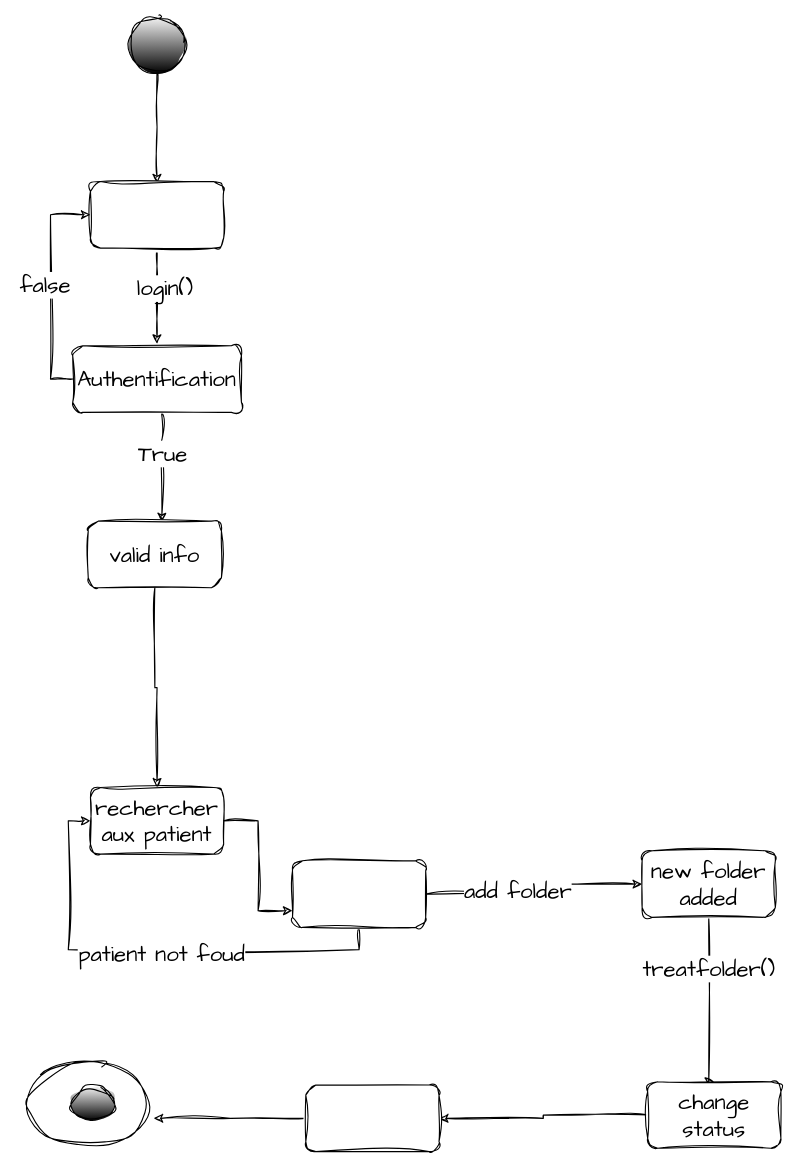
Some shapes in this 800 by 1171 pixel diagram are drawn without their labels. Here are the shapes that lost their labels. From the top down, the centre of each, then its label:
At point (156, 214): "Login".
At point (358, 893): "patient info".
At point (372, 1118): "Send Email to patient".
